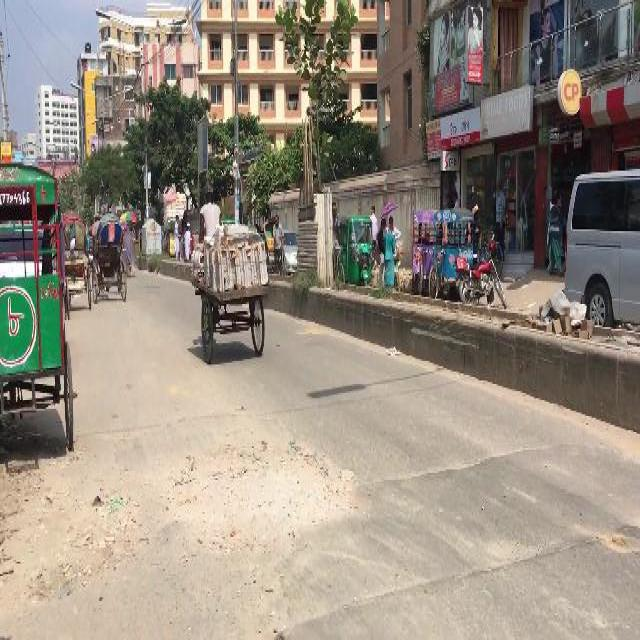minivan: (563, 167, 639, 324)
motorbike: (454, 251, 508, 304)
rickshaw: (62, 213, 92, 313), (92, 212, 126, 300), (263, 215, 287, 272)
three wheelers -CNG-: (340, 213, 372, 284)
